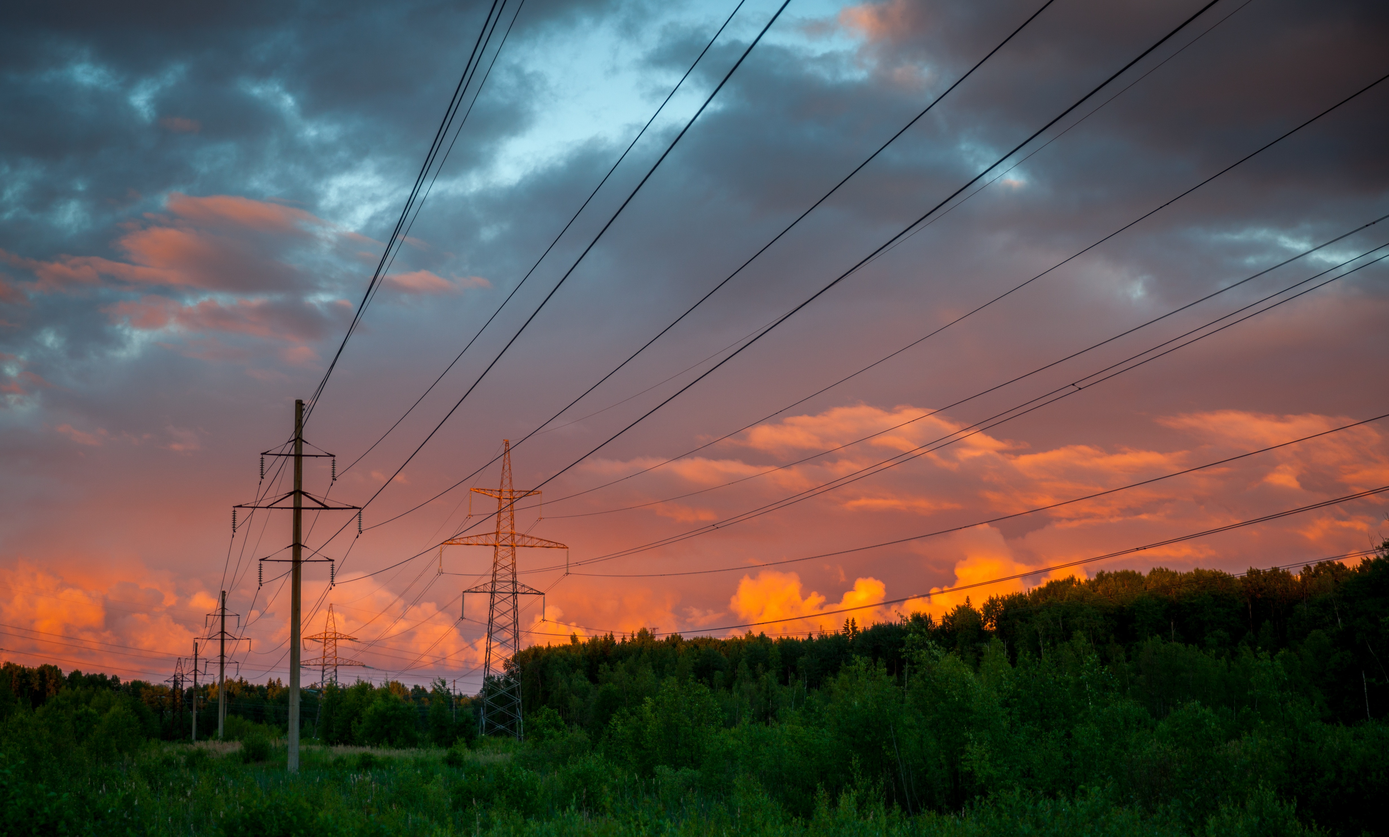insulator: (251, 557, 266, 591), (227, 506, 242, 537), (255, 449, 268, 484), (326, 457, 342, 484), (352, 506, 367, 534), (326, 562, 339, 586)
